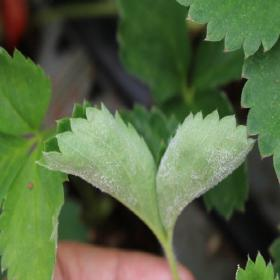Powdery Mildew Leaf: (33, 98, 167, 245), (156, 107, 259, 244)
